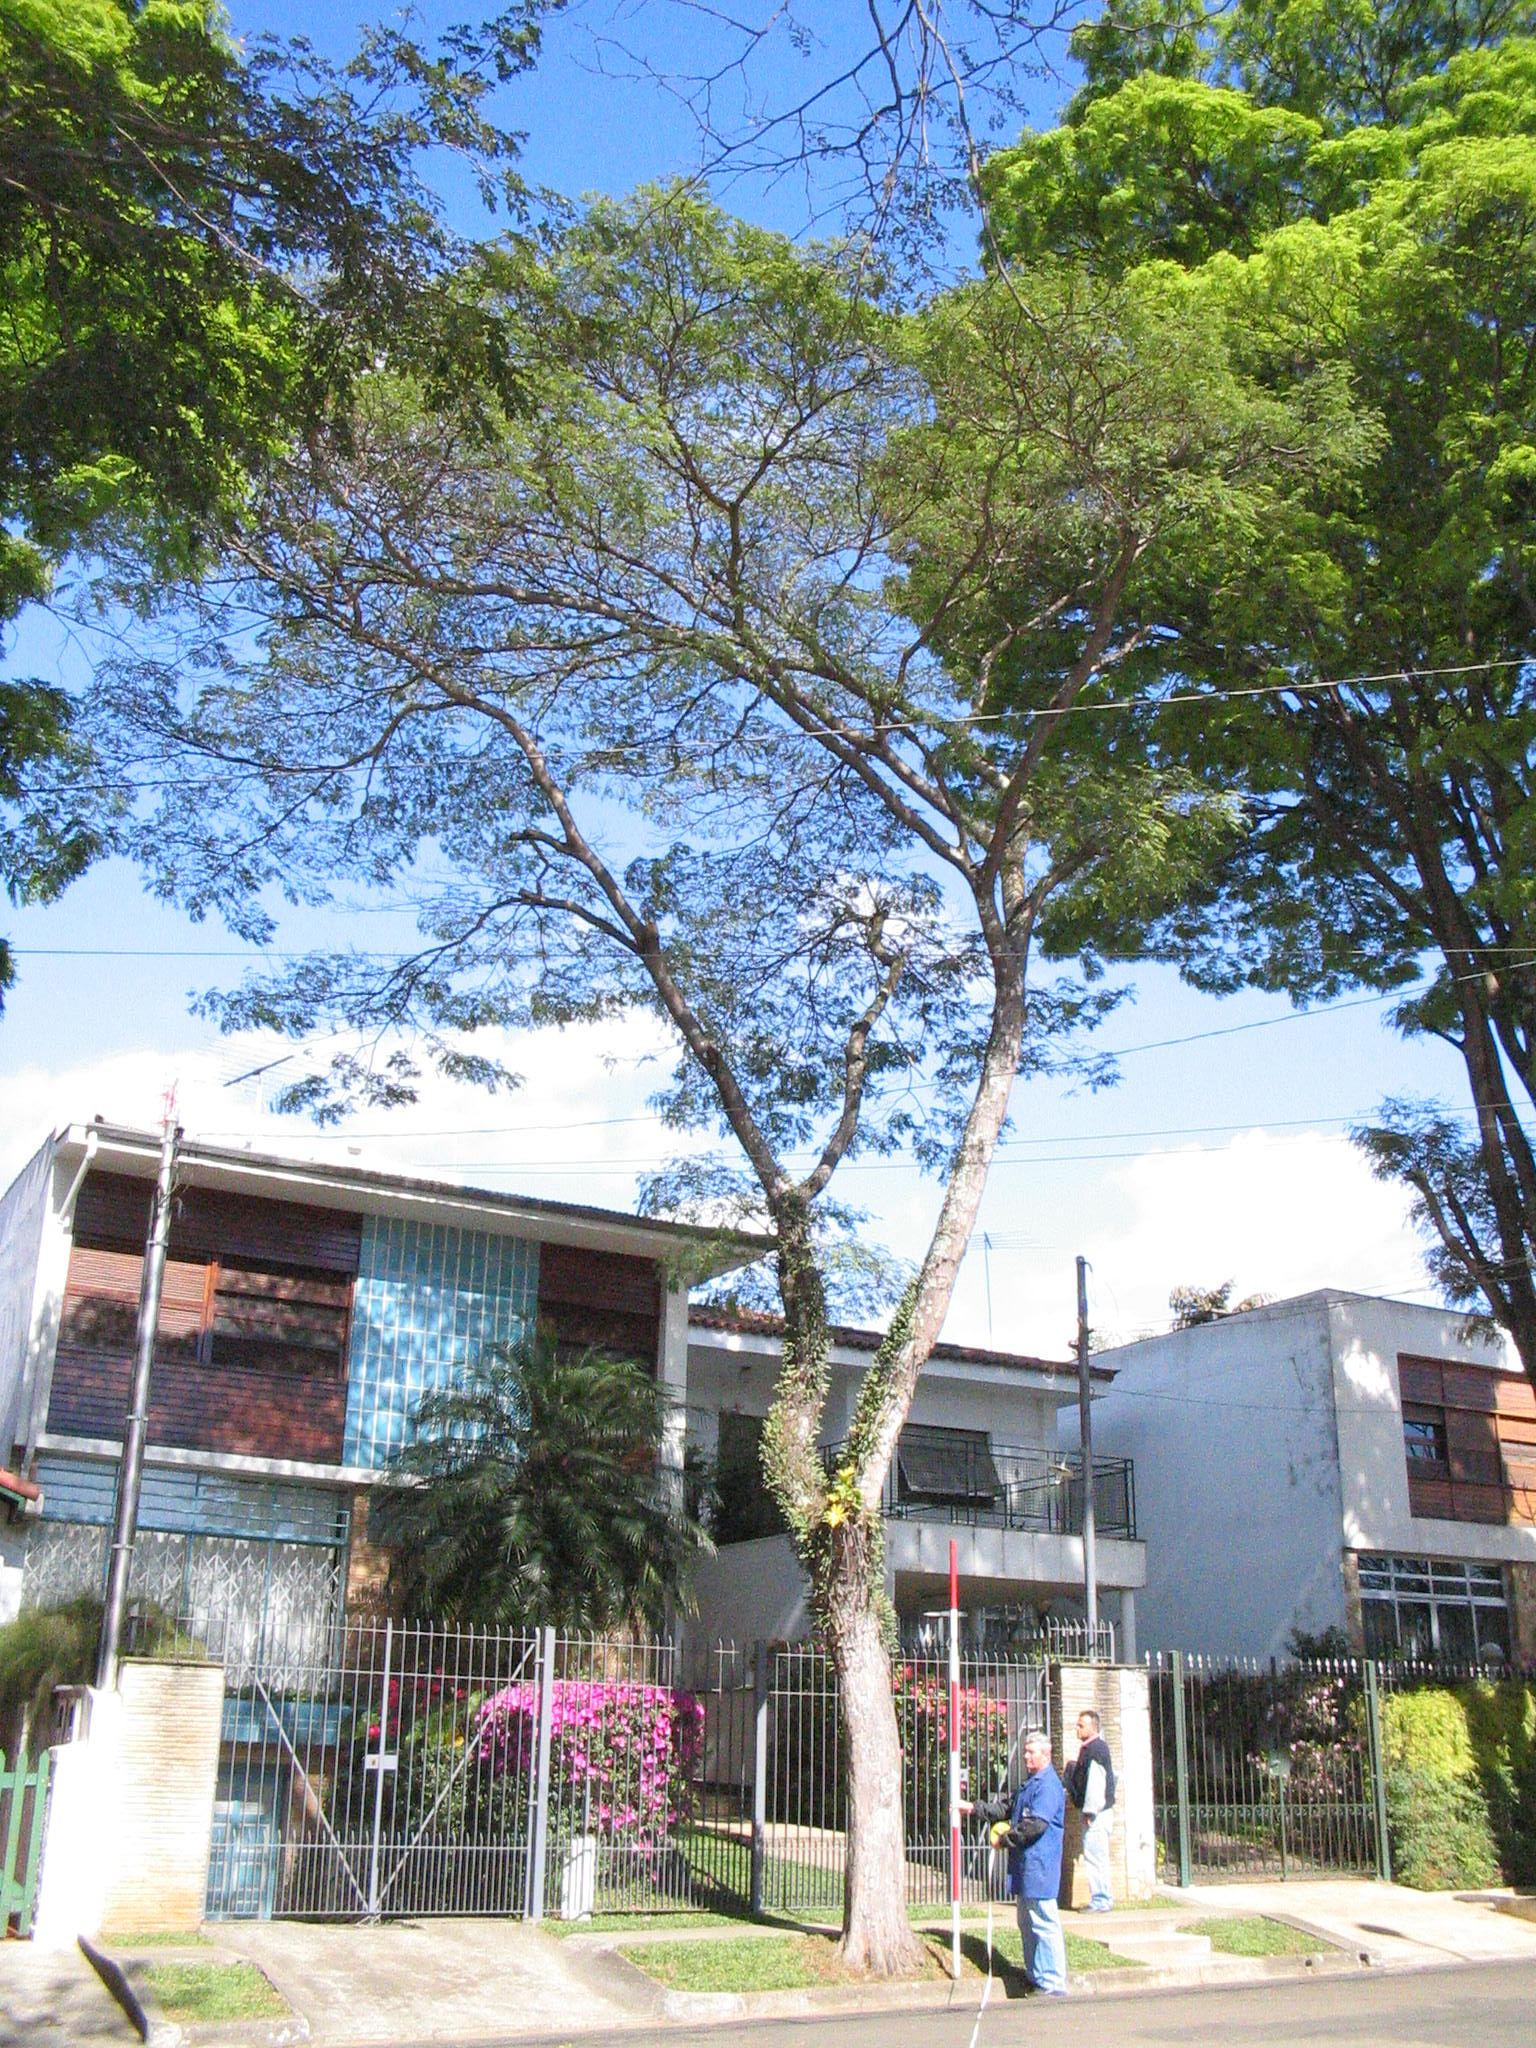crown: (110, 187, 1386, 1179)
stem: (783, 1576, 942, 1983)
stick: (920, 1540, 992, 1979)
tree: (98, 184, 1392, 1990)
